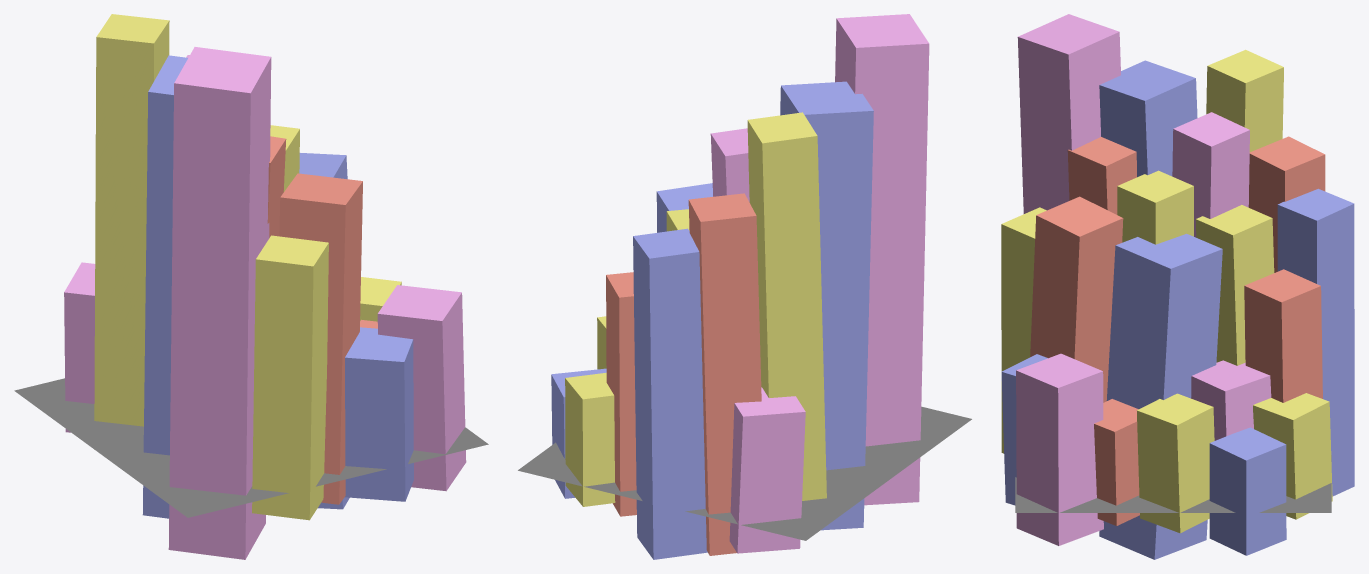
Rendered from building module 1.glb.
The picture shows the model from 3 angles, left to right: view 1: azimuth 30°, elevation 25°; view 2: azimuth 150°, elevation 25°; view 3: azimuth 270°, elevation 25°; orthographic projection. The views are drawn at different scales.
Parts seen in each view (by area): view 1: 1 bake; view 2: 1 bake; view 3: 1 bake.
Boxes of the visible parts, x1,y1,x2,y2 form: 1 bake: (14, 14, 488, 559); 1 bake: (518, 14, 971, 559); 1 bake: (1001, 14, 1354, 559).
Bounding box in the file's own units: 2.08 × 3.13 × 2.23.
Materials: 1 (1 with a texture image).
